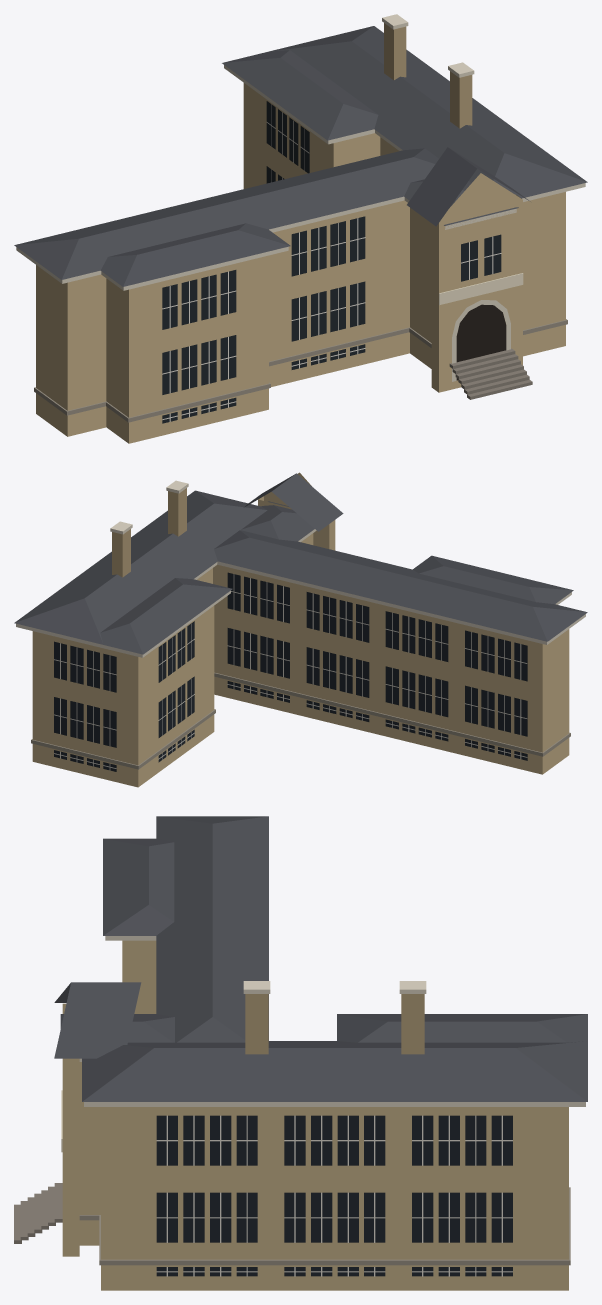
Rendered from rightsell-school-1913.glb.
3 renders of one model, top to bottom at view 1: azimuth 30°, elevation 25°; view 2: azimuth 150°, elevation 25°; view 3: azimuth 270°, elevation 25°, orthographic. The views are drawn at different scales.
Visible parts, largest first — view 1: rightsell_brick, rightsell_slate, rightsell_glass, rightsell_trim, rightsell_base, rightsell_stone, rightsell_brick2, rightsell_dark, rightsell_sash, rightsell_cream; view 2: rightsell_brick, rightsell_slate, rightsell_glass, rightsell_sash, rightsell_trim, rightsell_stone, rightsell_brick2; view 3: rightsell_slate, rightsell_brick, rightsell_glass, rightsell_sash, rightsell_stone, rightsell_trim, rightsell_brick2, rightsell_base.
Part boxes in pixels (left/top/right/bottom): rightsell_brick: left=36, top=83, right=565, bottom=443; rightsell_slate: left=14, top=26, right=587, bottom=286; rightsell_glass: left=162, top=101, right=501, bottom=423; rightsell_trim: left=16, top=14, right=585, bottom=381; rightsell_base: left=449, top=348, right=532, bottom=399; rightsell_stone: left=34, top=319, right=567, bottom=422; rightsell_brick2: left=384, top=23, right=472, bottom=128; rightsell_dark: left=456, top=304, right=506, bottom=380; rightsell_sash: left=162, top=104, right=501, bottom=421; rightsell_cream: left=439, top=273, right=523, bottom=304; rightsell_brick: left=32, top=472, right=569, bottom=787; rightsell_slate: left=14, top=473, right=587, bottom=654; rightsell_glass: left=54, top=572, right=527, bottom=771; rightsell_sash: left=54, top=574, right=527, bottom=770; rightsell_trim: left=16, top=480, right=585, bottom=657; rightsell_stone: left=31, top=672, right=570, bottom=769; rightsell_brick2: left=112, top=488, right=186, bottom=577; rightsell_slate: left=54, top=816, right=587, bottom=1101; rightsell_brick: left=62, top=940, right=568, bottom=1290; rightsell_glass: left=156, top=1115, right=512, bottom=1276; rightsell_sash: left=156, top=1115, right=512, bottom=1276; rightsell_stone: left=79, top=1187, right=570, bottom=1265; rightsell_trim: left=79, top=936, right=585, bottom=1106; rightsell_brick2: left=245, top=994, right=424, bottom=1054; rightsell_base: left=14, top=1183, right=62, bottom=1243.
Bounding box in the file's own units: 31.8 × 14.67 × 26.99.
